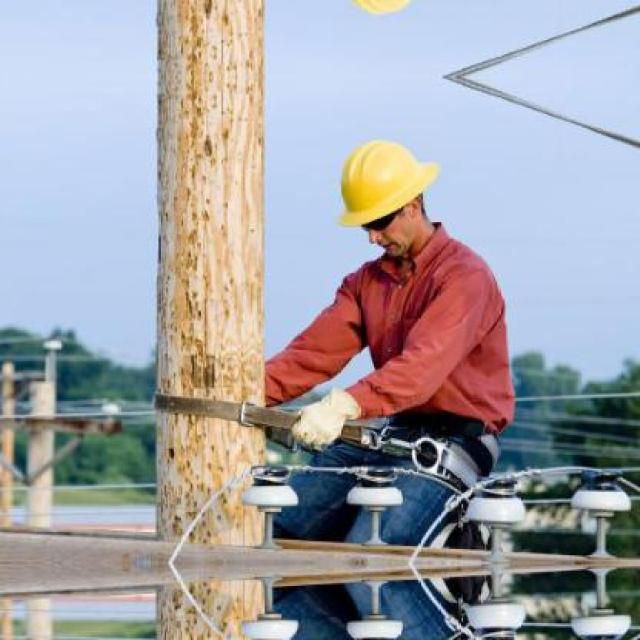helmet: (338, 138, 444, 252)
